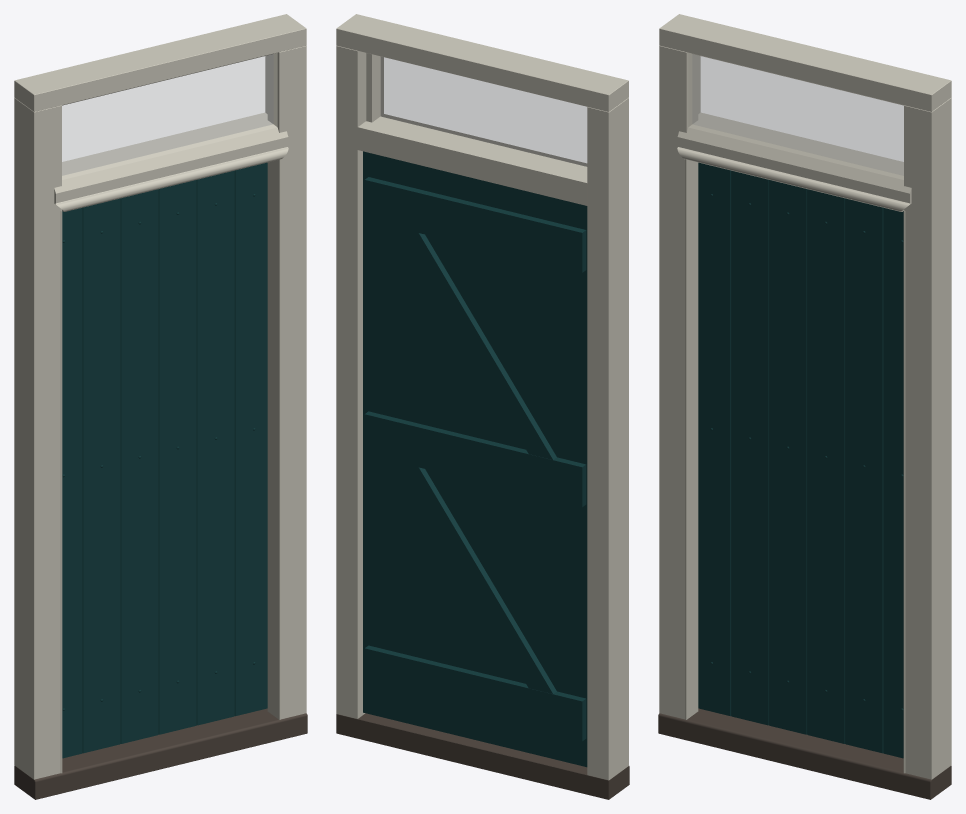
Rendered from door_F7_kept.glb.
3 renders of one model, left to right at view 1: azimuth 30°, elevation 25°; view 2: azimuth 150°, elevation 25°; view 3: azimuth 330°, elevation 25°, orthographic.
Visible parts, largest first — view 1: frame_jamb_L, frame_jamb_R, leaf_board_2, leaf_board_5, leaf_board_3, leaf_board_4, leaf_board_6, glass_fanlight, leaf_board_1, frame_transom, frame_head, stone_threshold (+3 smaller); view 2: frame_jamb_L, frame_jamb_R, leaf_board_6, leaf_board_1, leaf_board_2, leaf_board_5, leaf_board_3, leaf_board_4, glass_fanlight, frame_head, leaf_ledge_3, leaf_ledge_2 (+6 smaller); view 3: frame_jamb_R, frame_jamb_L, leaf_board_5, leaf_board_2, leaf_board_4, leaf_board_3, leaf_board_1, glass_fanlight, leaf_board_6, frame_transom, frame_head, stone_threshold (+3 smaller).
Part boxes in pixels (box(x1,y1,x2,y2)): frame_jamb_L: box(14, 97, 61, 779); frame_jamb_R: box(265, 45, 306, 719); leaf_board_2: box(82, 198, 120, 753); leaf_board_5: box(196, 170, 234, 725); leaf_board_3: box(120, 189, 158, 743); leaf_board_4: box(158, 180, 196, 734); leaf_board_6: box(234, 162, 267, 716); glass_fanlight: box(62, 54, 273, 175); leaf_board_1: box(62, 208, 82, 758); frame_transom: box(54, 112, 288, 211); frame_head: box(14, 14, 306, 111); stone_threshold: box(14, 708, 307, 799); frame_jamb_L: box(587, 98, 628, 780); frame_jamb_R: box(336, 45, 380, 718); leaf_board_6: box(363, 151, 401, 721); leaf_board_1: box(553, 198, 587, 767); leaf_board_2: box(515, 188, 553, 758); leaf_board_5: box(401, 160, 439, 730); leaf_board_3: box(477, 179, 515, 749); leaf_board_4: box(439, 170, 477, 740); glass_fanlight: box(381, 57, 586, 166); frame_head: box(336, 14, 628, 111); leaf_ledge_3: box(364, 177, 586, 272); leaf_ledge_2: box(364, 411, 586, 507); frame_jamb_R: box(904, 97, 951, 779); frame_jamb_L: box(659, 45, 700, 719); leaf_board_5: box(845, 198, 883, 753); leaf_board_2: box(731, 170, 769, 725); leaf_board_4: box(807, 189, 845, 743); leaf_board_3: box(769, 180, 807, 734); leaf_board_1: box(698, 162, 731, 716); glass_fanlight: box(692, 54, 903, 175); leaf_board_6: box(883, 208, 903, 758); frame_transom: box(677, 112, 911, 211); frame_head: box(659, 14, 951, 111); stone_threshold: box(658, 708, 951, 799).
Size of the model in its own units: 1 by 2.47 by 0.149.
